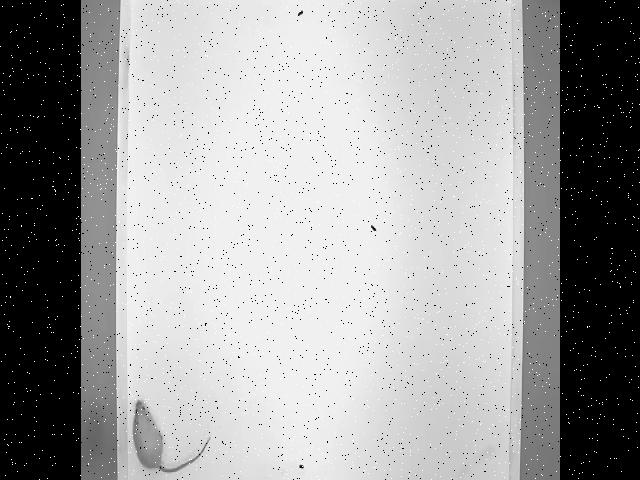Tikus: (132, 401, 210, 474)
